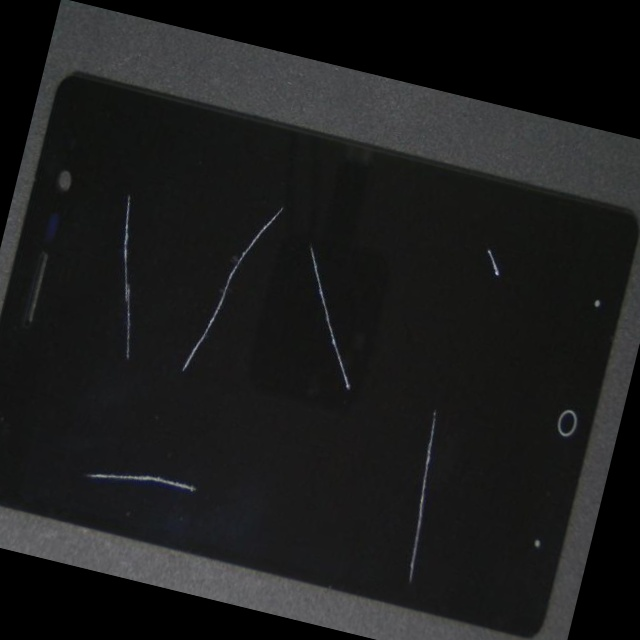scratch: (248, 185, 640, 389)
